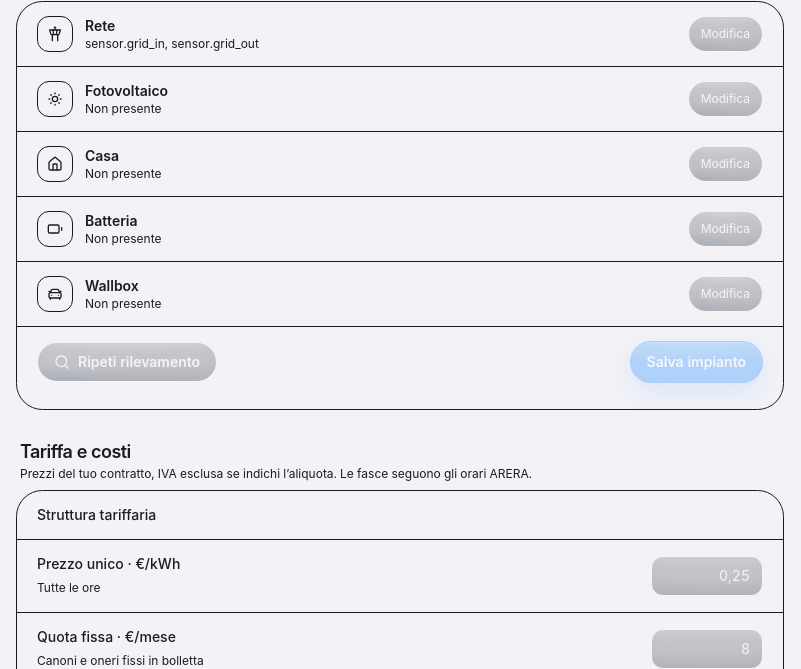
Energy settings › removes a tariff explicitly and keeps edits after a failed save
Expected: the field labelled "Prezzo unico · €/kWh Tutte le ore" holds "0,25", left=651, top=556, right=763, bottom=596
Replace the text in the field labelled "Quota fissa · €/mese Canoni e oneri fissi in bolletta" with "9,5" at coordinates (707, 649), box left=651, top=629, right=763, bottom=668
(page scrolled)
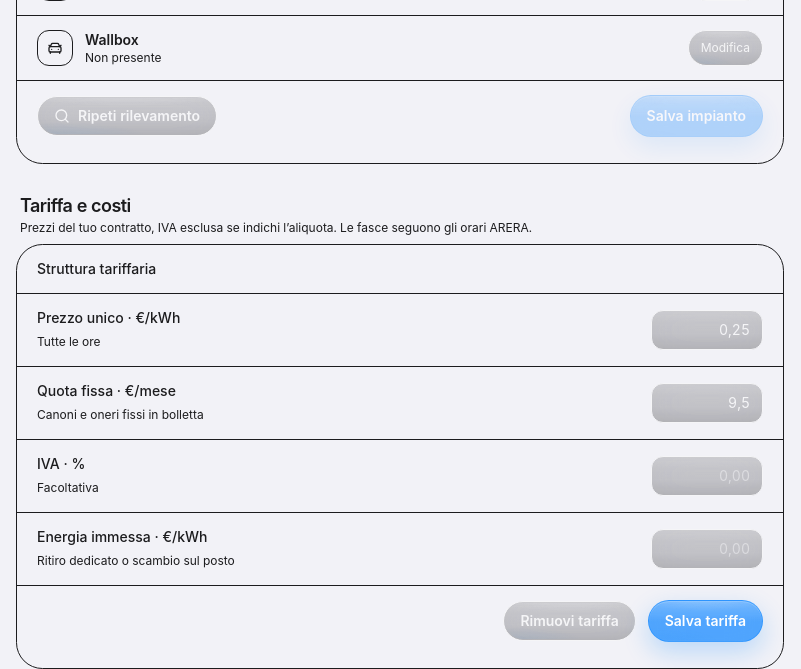
Click the button "Salva tariffa" at coordinates (705, 621), box left=648, top=600, right=763, bottom=642
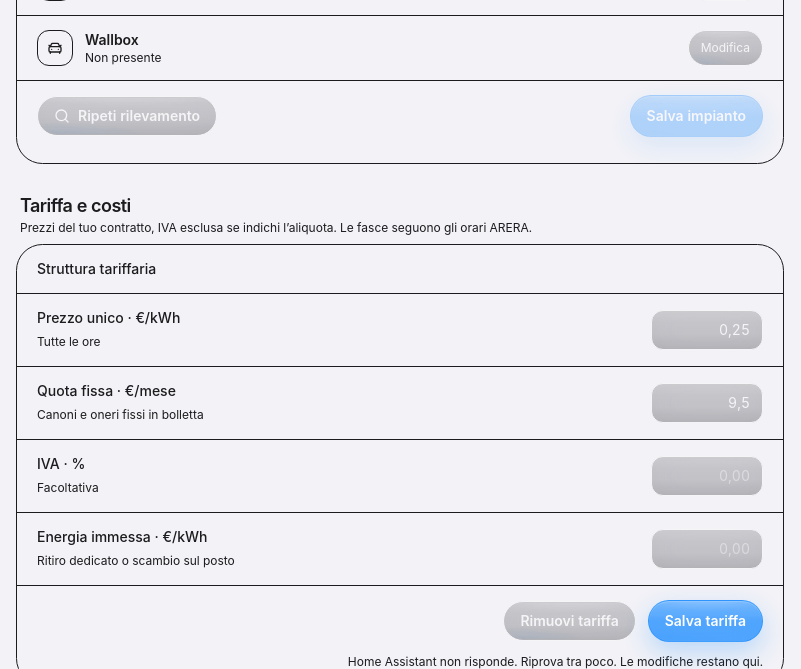
Expected: the text "Home Assistant non risponde. Riprova tra poco. Le modifiche restano qui." is shown, left=348, top=654, right=763, bottom=668
Click the button "Rimuovi tariffa" at coordinates (570, 621), box left=503, top=601, right=636, bottom=641
(page scrolled)
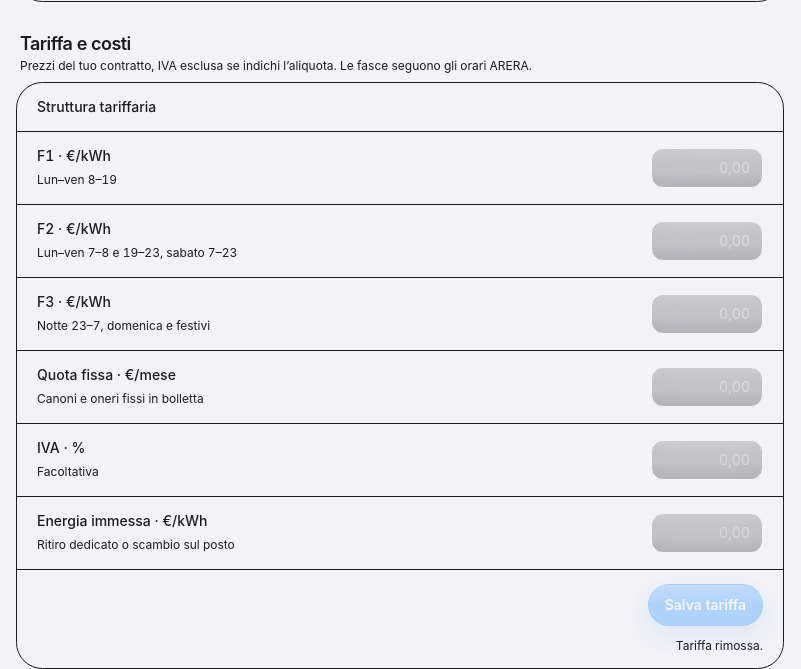
Expected: the text "Tariffa rimossa." is shown, left=676, top=638, right=763, bottom=653
